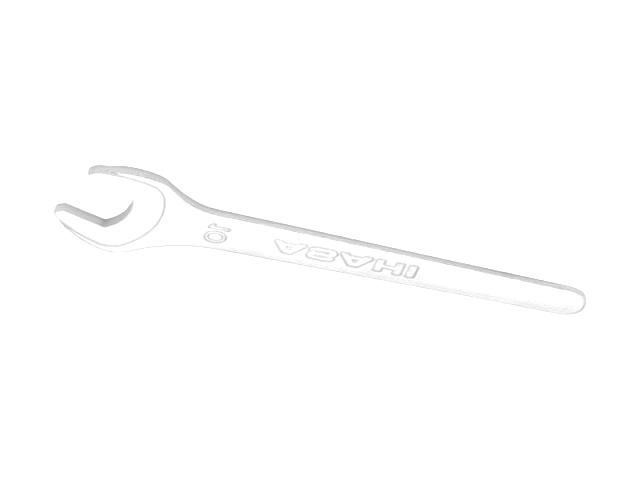Wrench: (54, 166, 585, 314)
